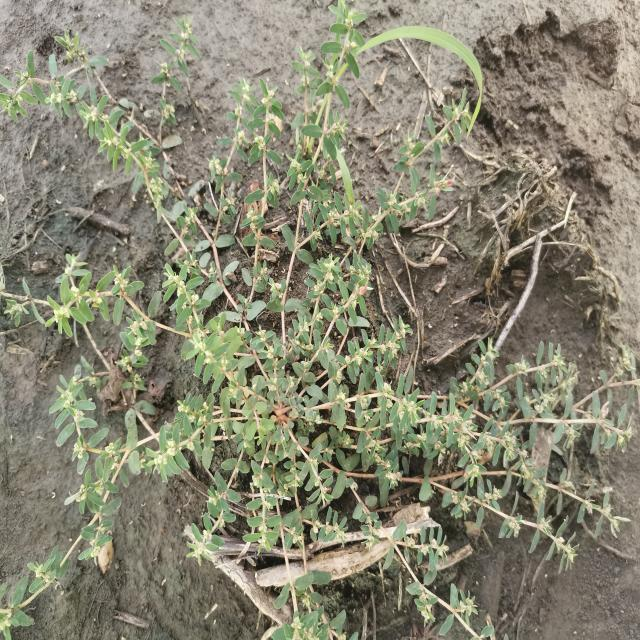SpottedSpurge: (3, 5, 638, 634)
